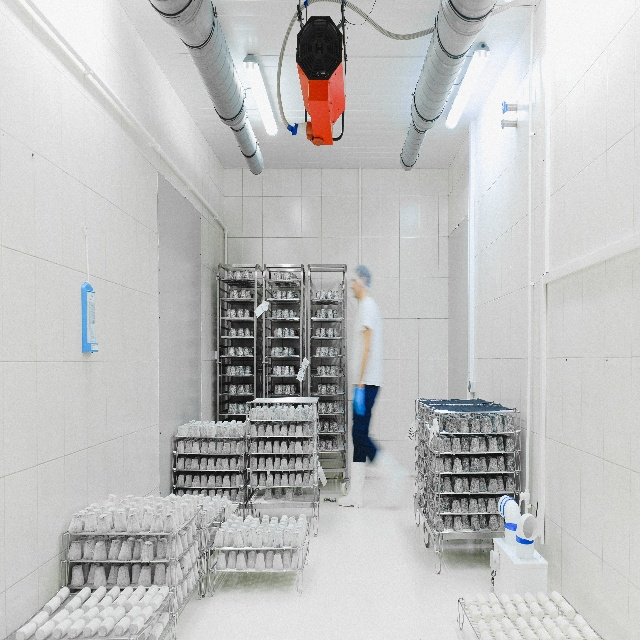Guantes: (353, 385, 366, 417)
